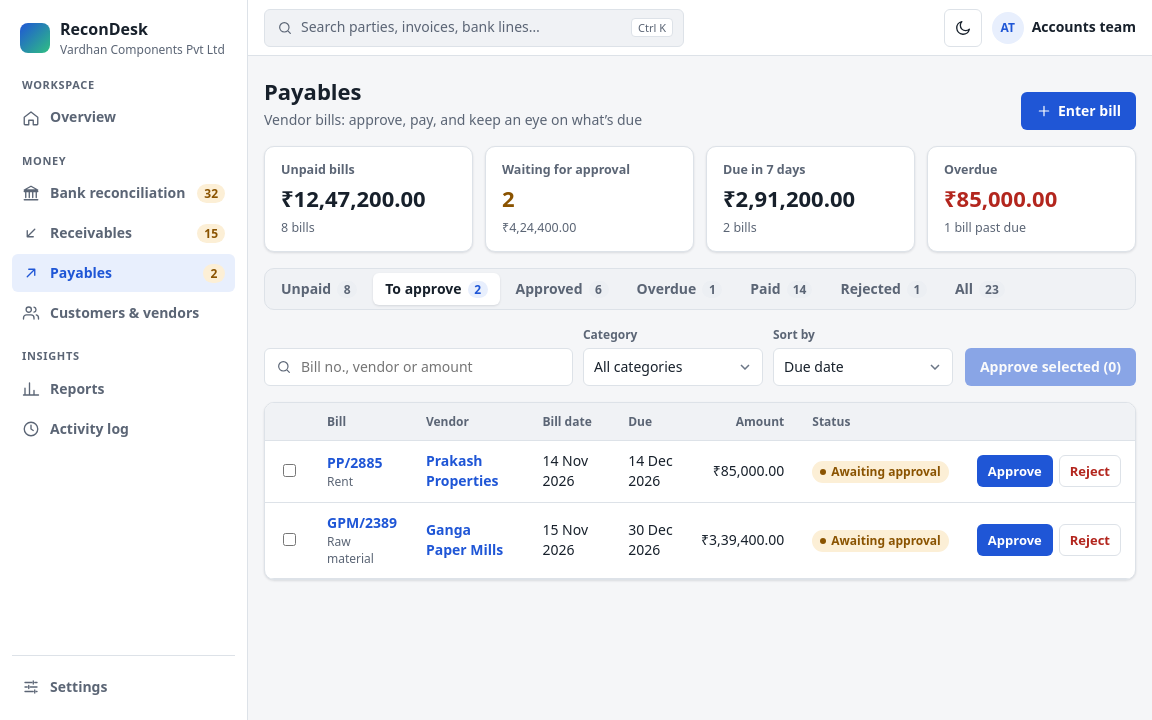
Test: Modules working together › approves a bill and takes it off the approval list
Expected: the heading "Payables" is shown, [264,76,362,108]
Click the button with aria-label "approve bill" at {"x": 1015, "y": 471}, box [977,455,1053,487]
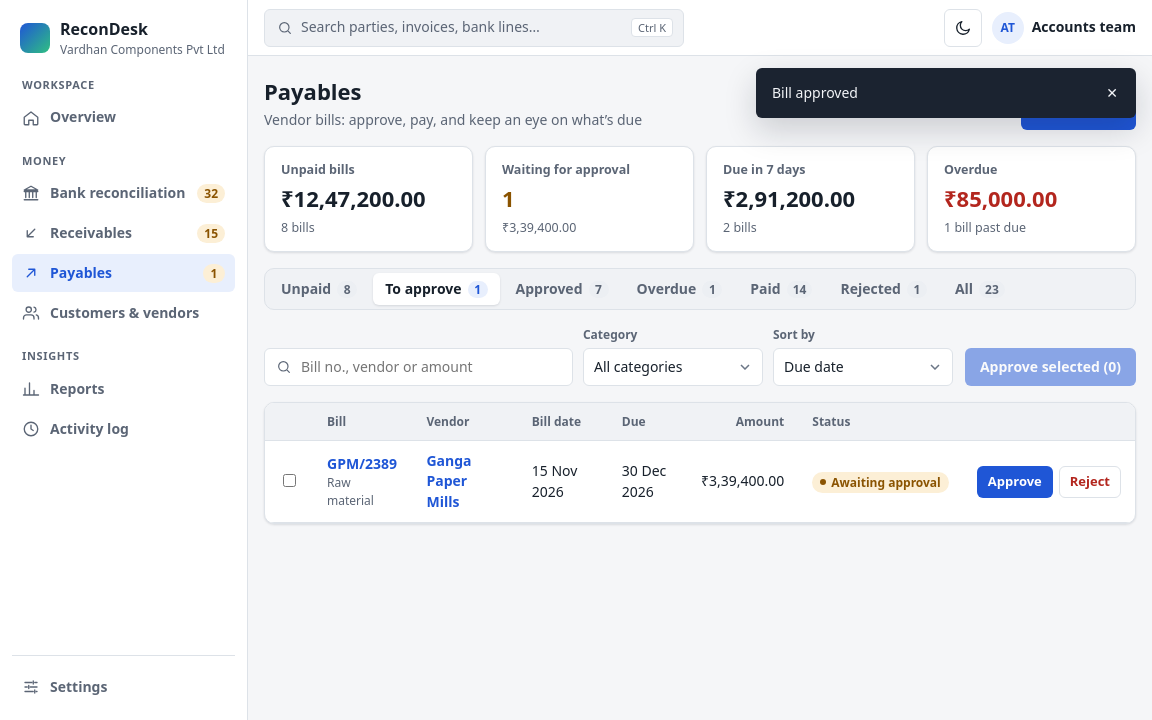
Result: the number of buttons named "approve bill" is 1 at [977,466,1053,498]
Result: the text "Bill approved" is shown at [772,83,858,102]
